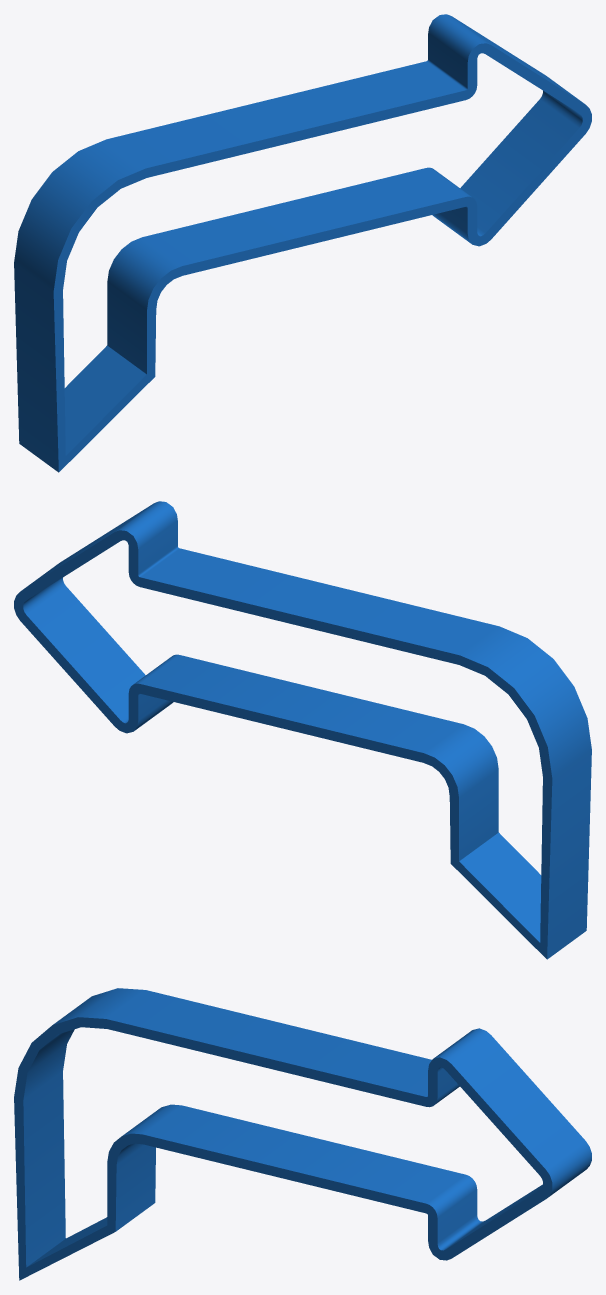
File: Arrow_54.obj
The picture shows the model from 3 angles, top to bottom: view 1: azimuth 30°, elevation 25°; view 2: azimuth 150°, elevation 25°; view 3: azimuth 330°, elevation 25°; orthographic projection.
Parts seen in each view (by area): view 1: Arrow_54; view 2: Arrow_54; view 3: Arrow_54.
Part boxes in pixels (x1=…): Arrow_54: x1=14, y1=14, x2=591, y2=472; Arrow_54: x1=14, y1=501, x2=591, y2=959; Arrow_54: x1=14, y1=988, x2=591, y2=1280.
Size of the model in its own units: 5.82 by 3.37 by 0.7423.
